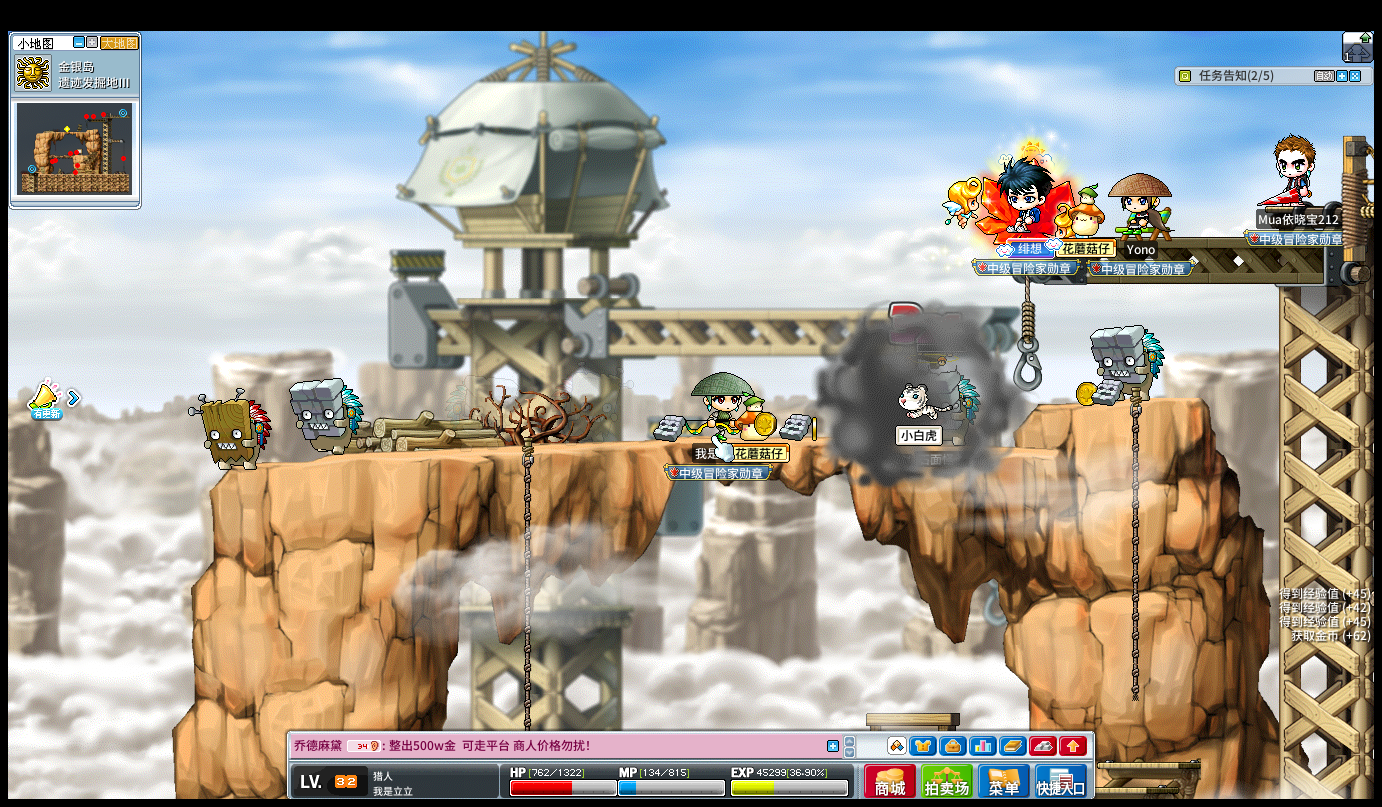floor: (217, 433, 904, 464), (245, 433, 821, 459), (1033, 394, 1209, 413)
monster: (1088, 323, 1164, 407), (193, 390, 271, 471), (288, 377, 363, 457), (933, 370, 981, 449)
rope: (1127, 381, 1142, 705), (521, 434, 533, 671)
